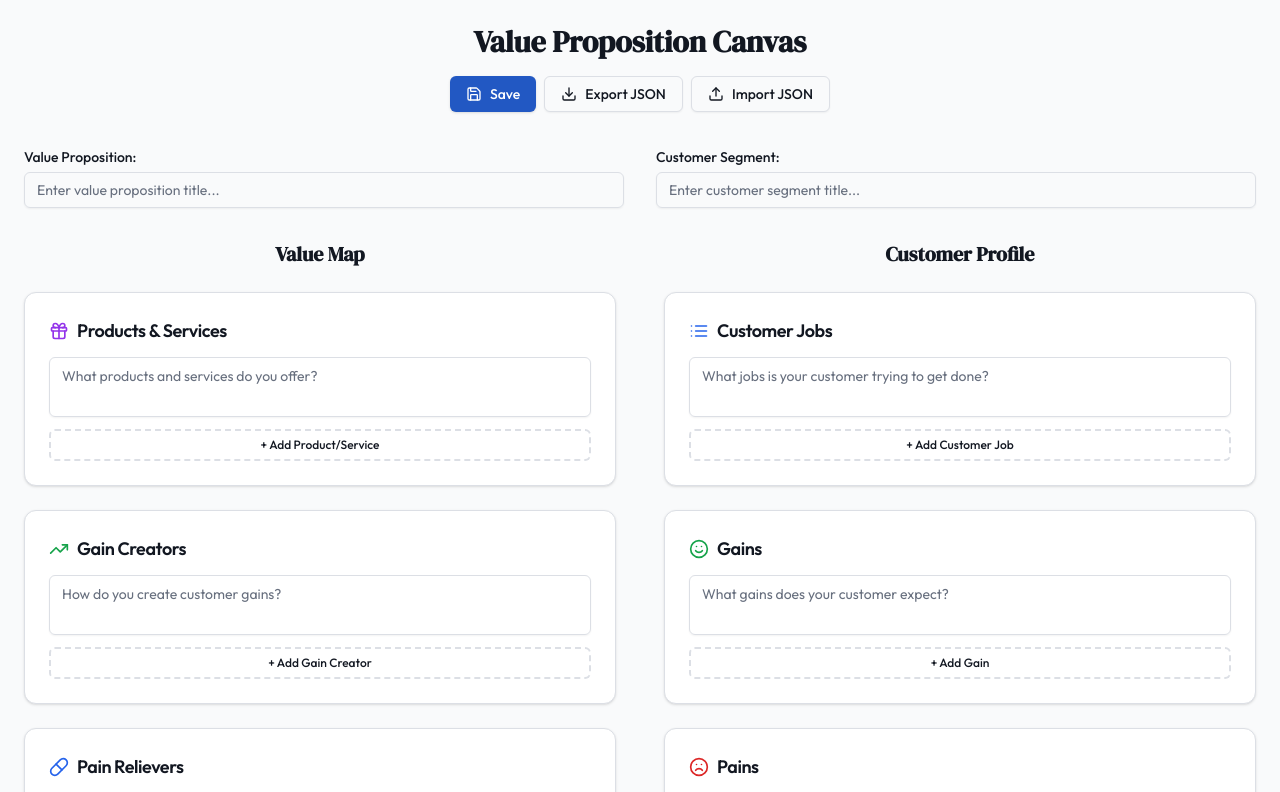
Test: ValuePropositionCanvas › Value Map Management › removes product/service item
Click the button "+ Add Product/Service". click: (320, 445)
box: [49,429,591,461]
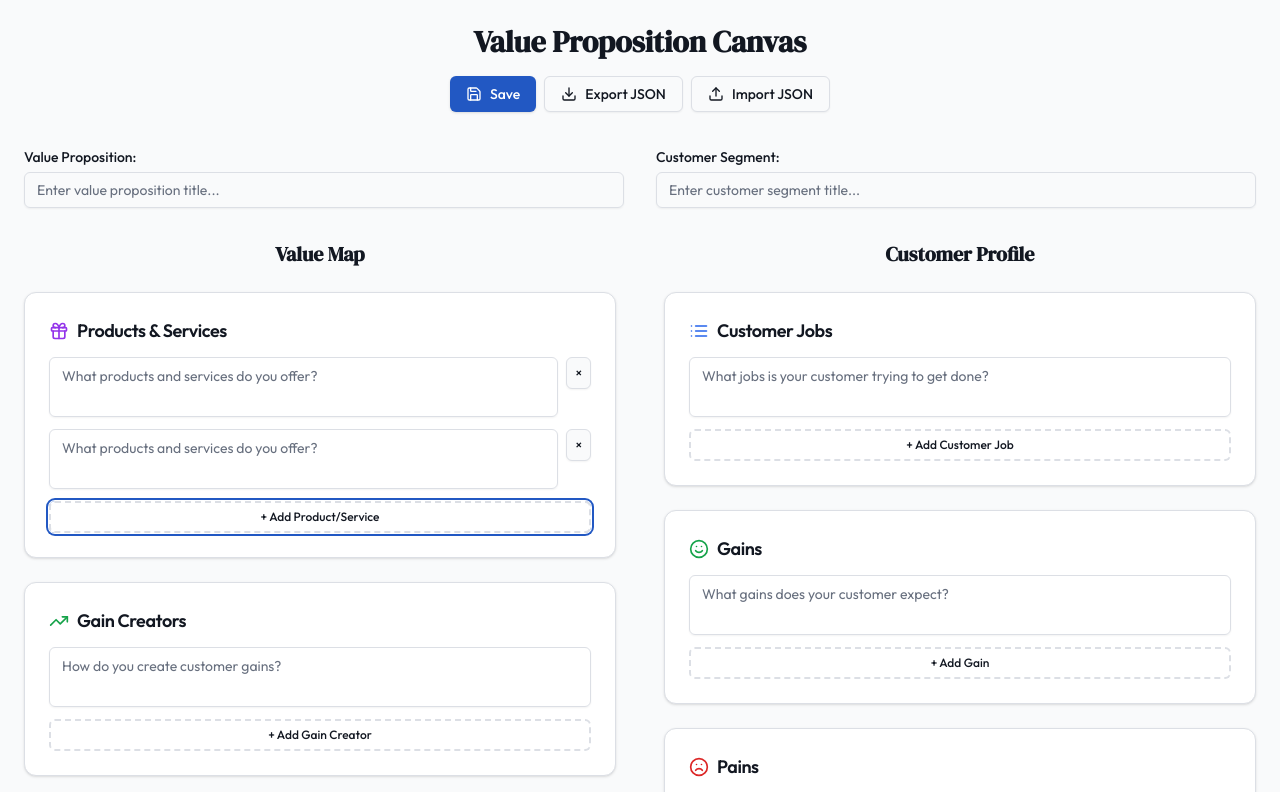
Type "Test product" into the 2nd text box with placeholder "What products and services do you offer?". click: (304, 459)
box: [49,429,558,489]
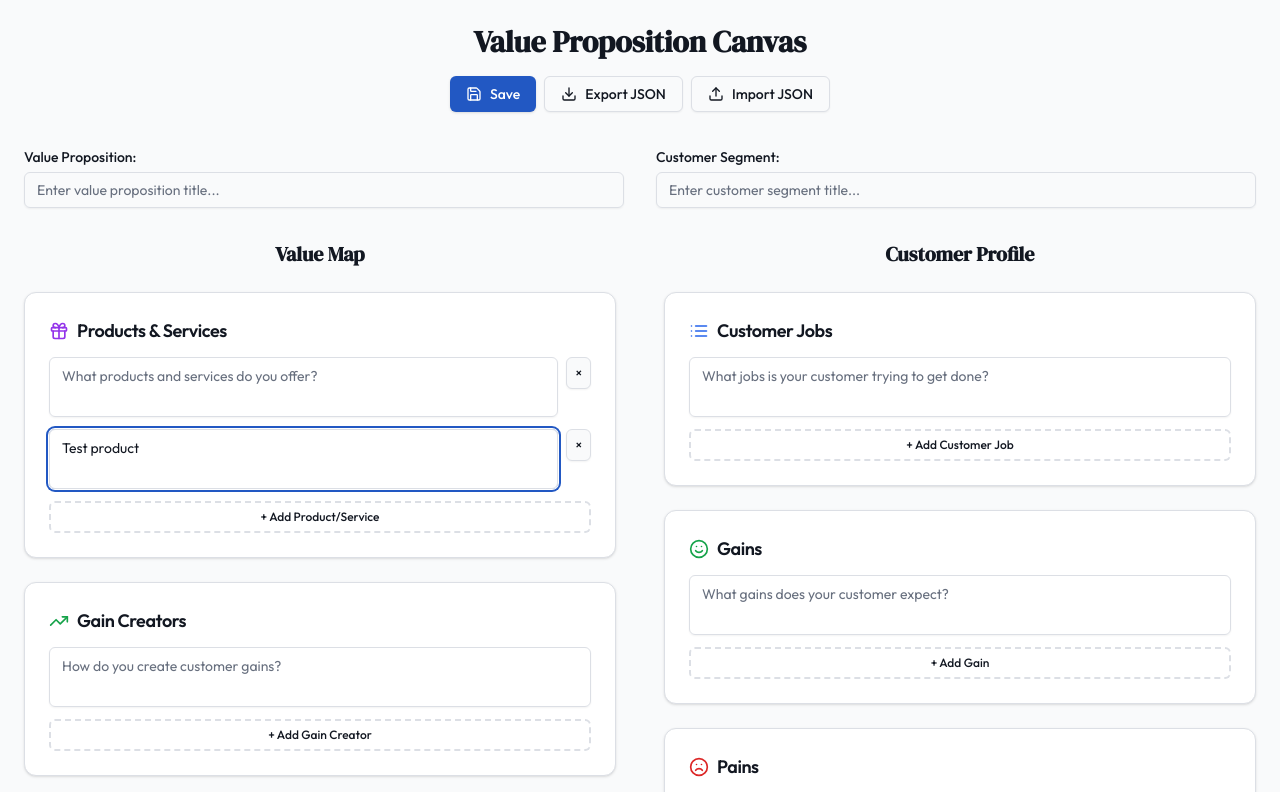
Click the button "+ Add Product/Service". click: (320, 517)
box: [49,501,591,533]
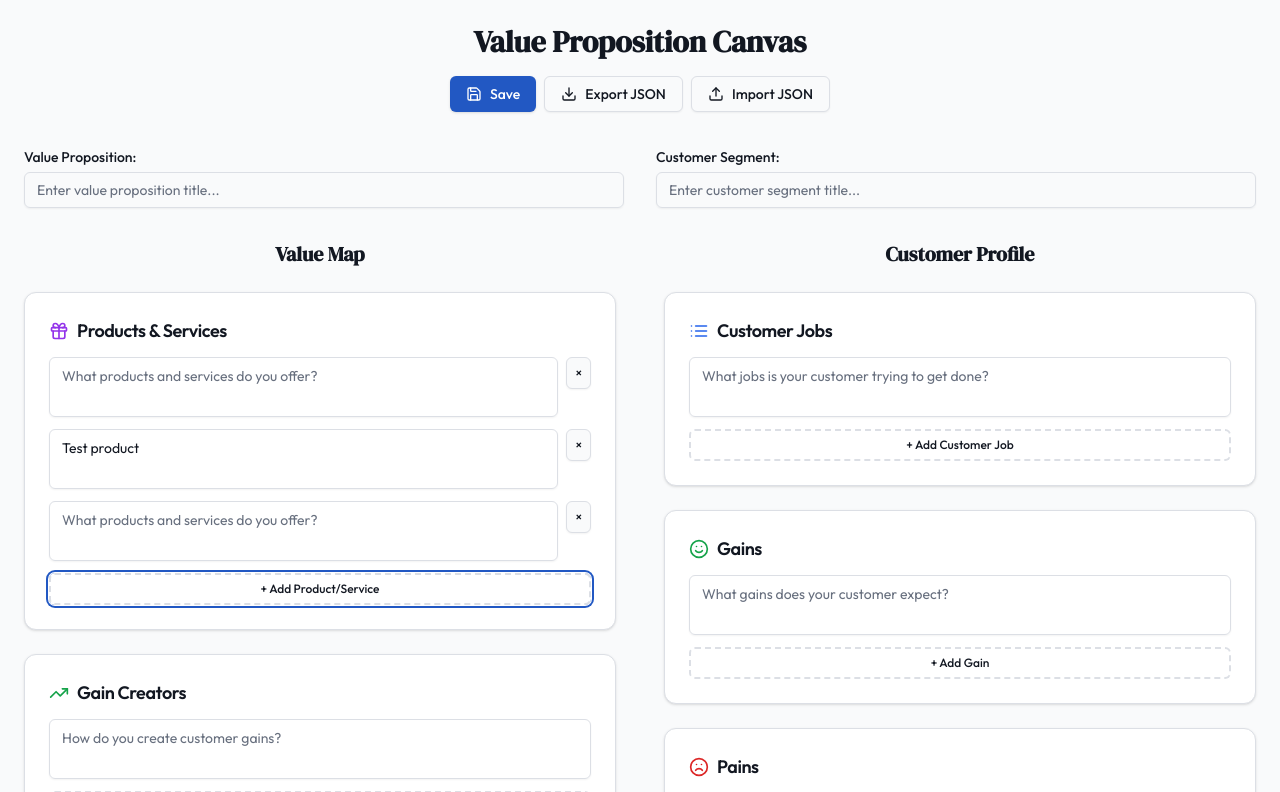
Type "Another product" into the 2nd text box with placeholder "What products and services do you offer?". click: (304, 531)
box: [49,501,558,561]
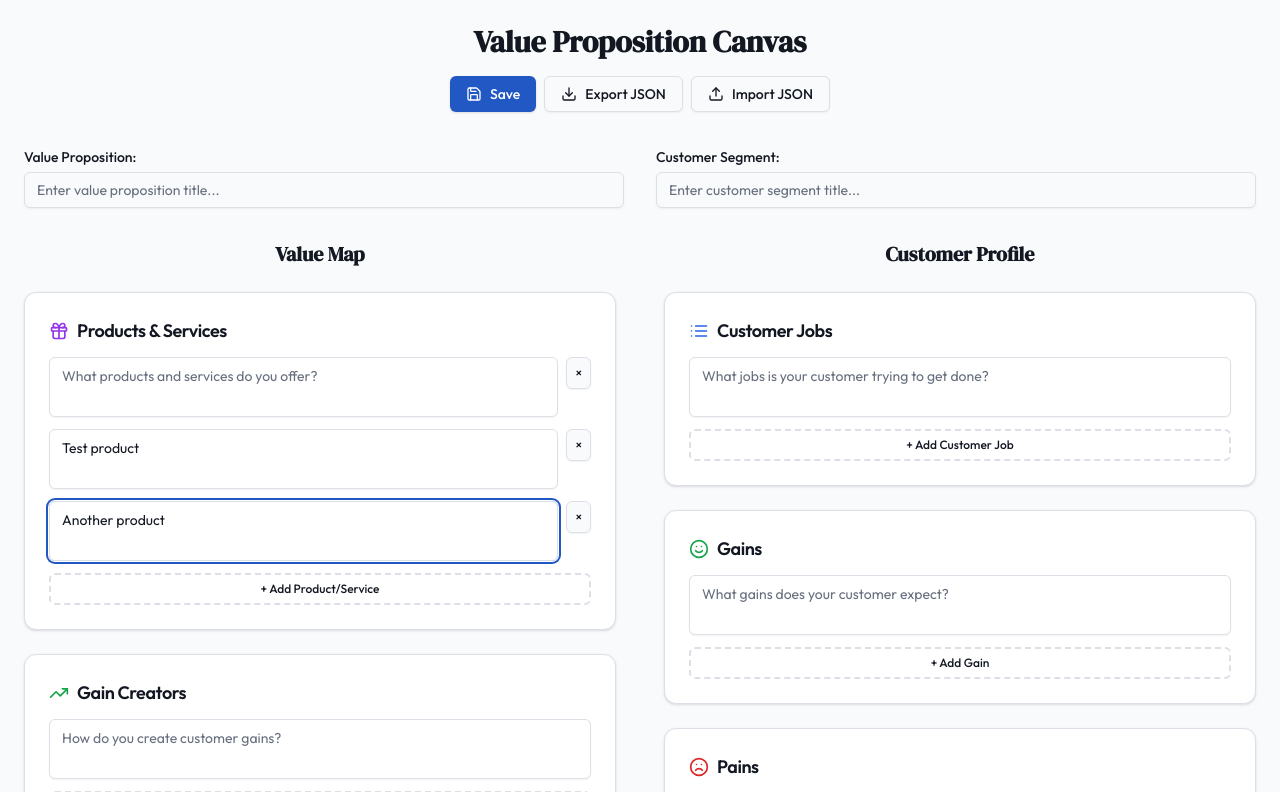
Click the 1st button "×". click: (579, 373)
box: [566,357,591,389]
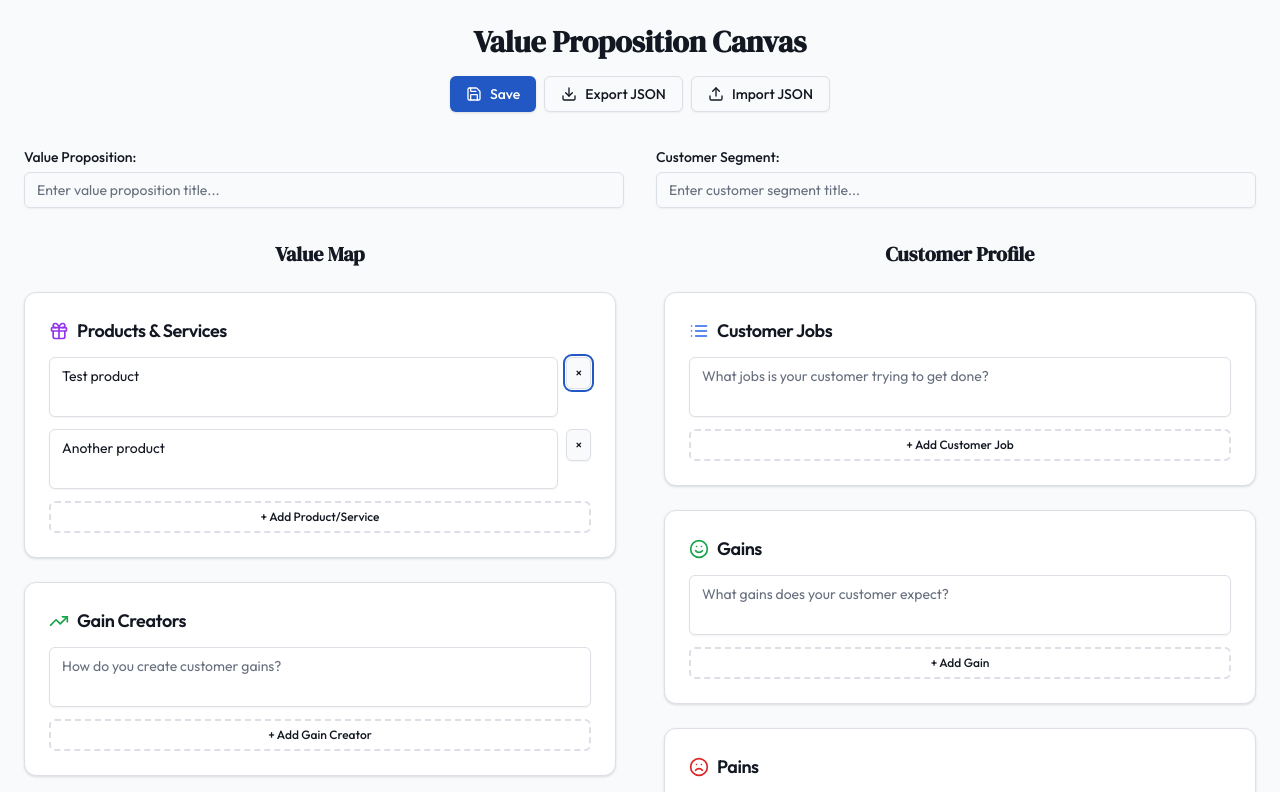
Expected: the number of text boxes with placeholder "What products and services do you offer?" is 2, [49,357,558,417]; [49,429,558,489]
